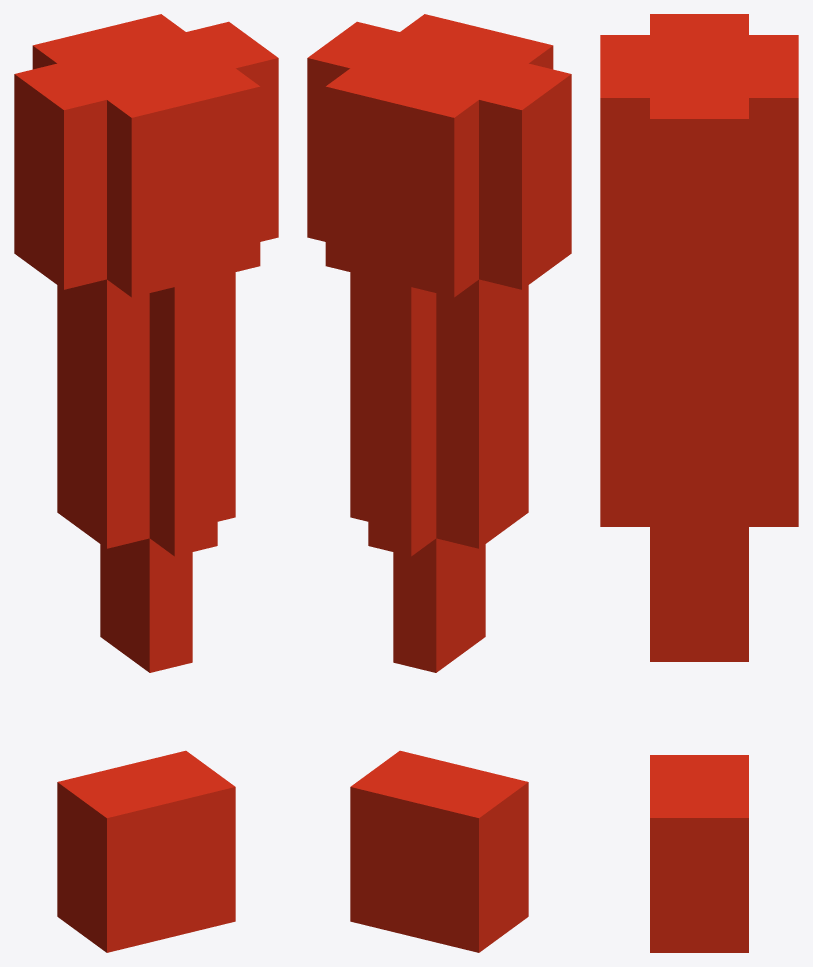
Rendered from exclamacao.obj.
3 renders of one model, left to right at view 1: azimuth 30°, elevation 25°; view 2: azimuth 150°, elevation 25°; view 3: azimuth 270°, elevation 25°, orthographic.
Size of the model in its own units: 5 by 19 by 4.
Materials: 1 (1 with a texture image).
